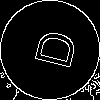D: (25, 25, 78, 71)
